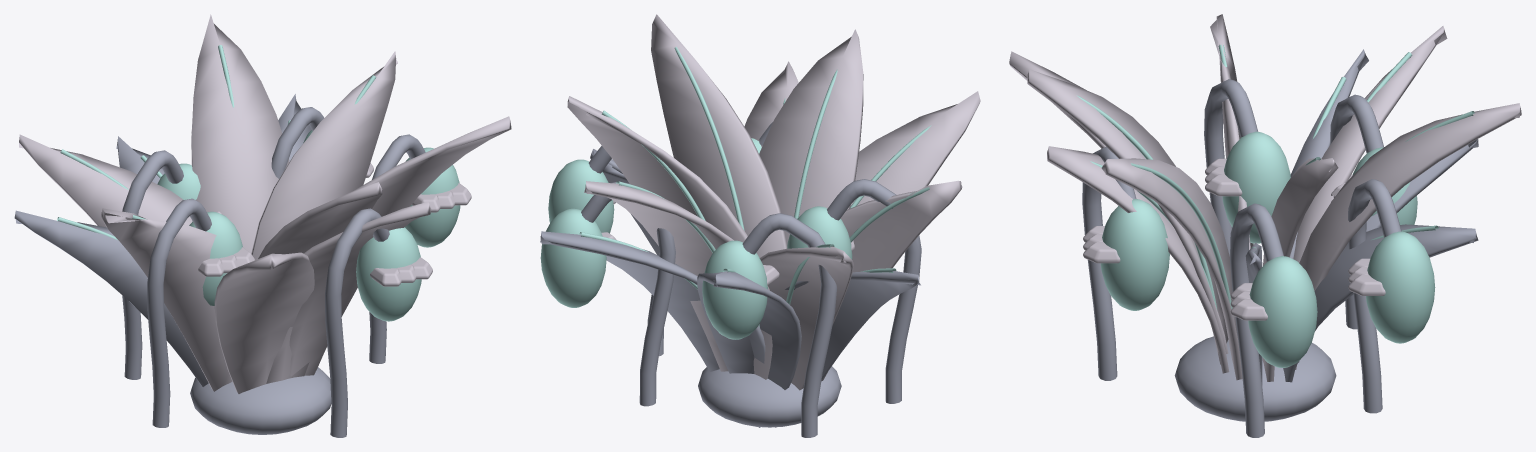
The model's file is bio_mist_leaf_23_near.glb.
3 renders of one model, left to right at view 1: azimuth 30°, elevation 25°; view 2: azimuth 150°, elevation 25°; view 3: azimuth 270°, elevation 25°, orthographic. The views are drawn at different scales.
Visible parts, largest first — view 1: Cupped condensate leaf.011, Cupped condensate leaf.008, Cupped condensate leaf.007, Cupped condensate leaf.004, Root rosette, Cupped condensate leaf.009, Cupped condensate leaf.001, Cupped condensate leaf.010, Arched fruit stem.004, Cupped condensate leaf.002, Arched fruit stem.002, Cupped condensate leaf.005 (+12 smaller); view 2: Cupped condensate leaf.002, Cupped condensate leaf.005, Cupped condensate leaf.008, Cupped condensate leaf.007, Cupped condensate leaf.011, Cupped condensate leaf.004, Cupped condensate leaf.003, Root rosette, Cupped condensate leaf.006, Cupped condensate leaf.001, Arched fruit stem.001, Pendant spore capsule.001 (+13 smaller); view 3: Cupped condensate leaf.011, Root rosette, Cupped condensate leaf.005, Pendant spore capsule, Pendant spore capsule.003, Pendant spore capsule.002, Cupped condensate leaf.002, Cupped condensate leaf.001, Arched fruit stem, Cupped condensate leaf.010, Pendant spore capsule.004, Arched fruit stem.003 (+17 smaller).
Part boxes in pixels (<box>): Cupped condensate leaf.011: <box>191,14,289,253</box>; Cupped condensate leaf.008: <box>251,51,397,260</box>; Cupped condensate leaf.007: <box>214,252,314,393</box>; Cupped condensate leaf.004: <box>101,208,232,391</box>; Root rosette: <box>190,367,331,434</box>; Cupped condensate leaf.009: <box>14,210,208,386</box>; Cupped condensate leaf.001: <box>19,134,192,227</box>; Cupped condensate leaf.010: <box>289,201,431,376</box>; Arched fruit stem.004: <box>147,198,211,427</box>; Cupped condensate leaf.002: <box>258,182,382,383</box>; Arched fruit stem.002: <box>325,208,389,437</box>; Cupped condensate leaf.005: <box>316,116,511,370</box>; Cupped condensate leaf.002: <box>759,29,863,244</box>; Cupped condensate leaf.005: <box>651,14,787,257</box>; Cupped condensate leaf.008: <box>567,96,747,242</box>; Cupped condensate leaf.007: <box>850,91,980,206</box>; Cupped condensate leaf.011: <box>584,181,772,379</box>; Cupped condensate leaf.004: <box>822,180,962,380</box>; Cupped condensate leaf.003: <box>540,231,765,371</box>; Root rosette: <box>698,366,841,427</box>; Cupped condensate leaf.006: <box>697,271,801,427</box>; Cupped condensate leaf.001: <box>759,246,853,427</box>; Arched fruit stem.001: <box>742,213,836,437</box>; Pendant spore capsule.001: <box>702,240,767,339</box>; Cupped condensate leaf.011: <box>1295,103,1521,369</box>; Root rosette: <box>1174,336,1336,421</box>; Cupped condensate leaf.005: <box>1101,158,1242,380</box>; Pendant spore capsule: <box>1248,256,1317,367</box>; Pendant spore capsule.003: <box>1366,231,1435,343</box>; Pendant spore capsule.002: <box>1100,199,1169,310</box>; Cupped condensate leaf.002: <box>1027,69,1223,364</box>; Cupped condensate leaf.001: <box>1293,26,1447,262</box>; Arched fruit stem: <box>1230,203,1283,437</box>; Cupped condensate leaf.010: <box>1047,146,1229,373</box>; Pendant spore capsule.004: <box>1222,131,1290,243</box>; Arched fruit stem.003: <box>1348,179,1401,413</box>.
Size of the model in its own units: 1.94 by 1.42 by 1.9.
